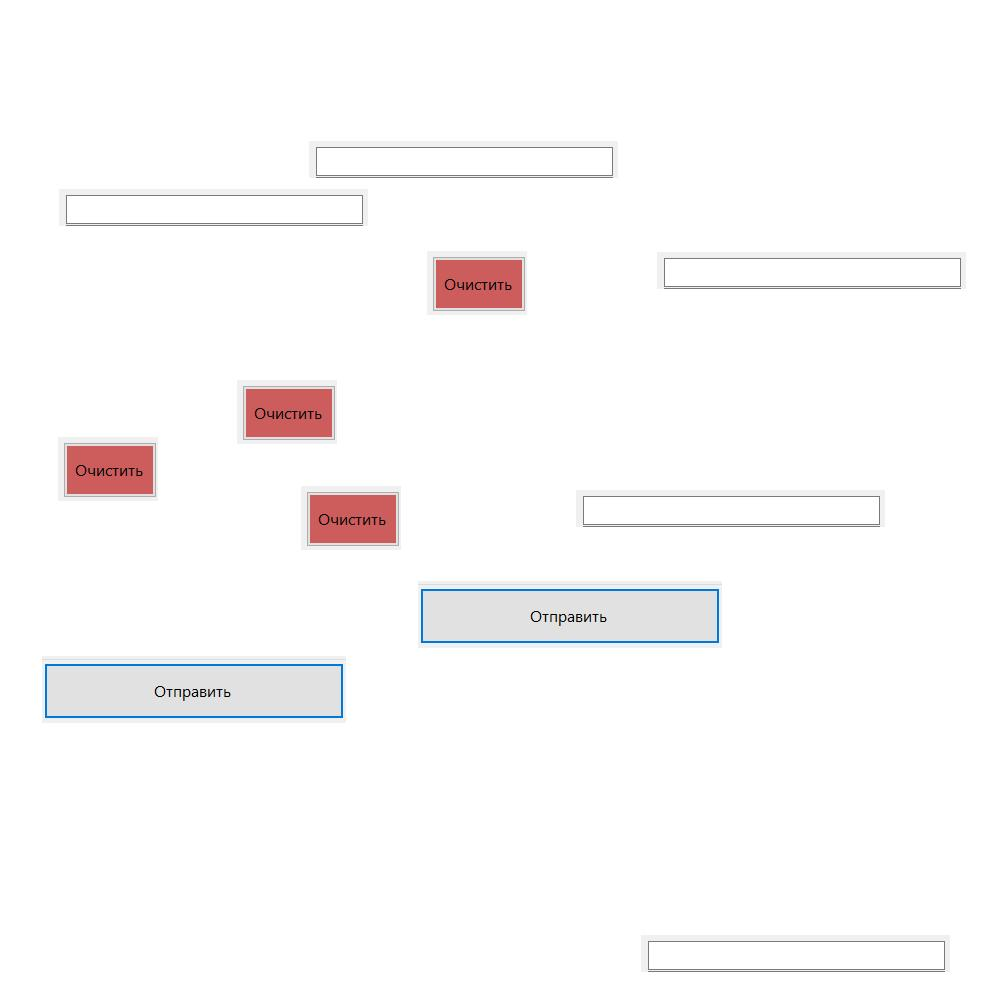Button: (418, 581, 722, 648), (42, 656, 346, 723), (301, 486, 401, 550), (58, 437, 158, 501), (237, 380, 337, 444), (427, 251, 527, 315)
EditText-: (309, 141, 618, 178), (576, 490, 885, 527), (59, 189, 368, 226), (657, 252, 966, 289), (641, 935, 950, 972)
